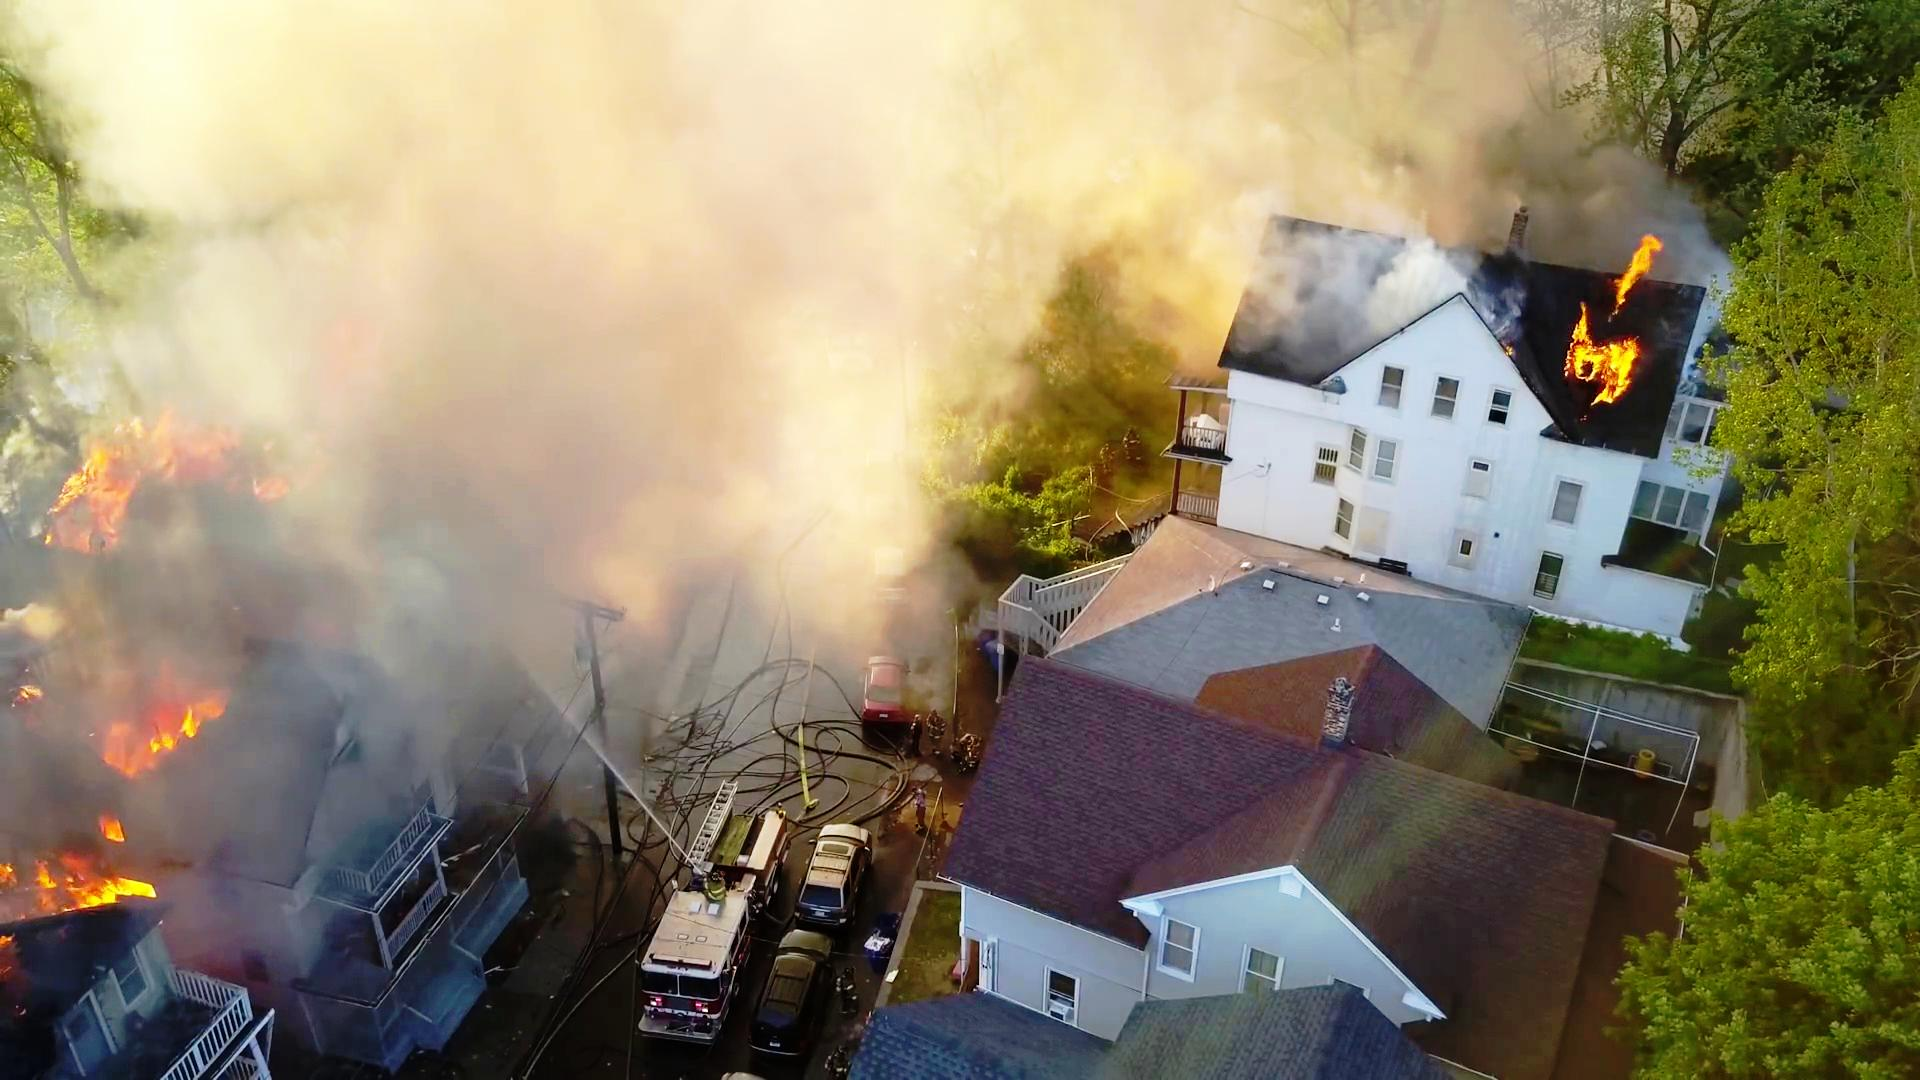fire: (386, 10, 813, 544), (63, 423, 215, 527), (0, 840, 168, 926), (1560, 283, 1649, 413), (103, 693, 231, 778)
